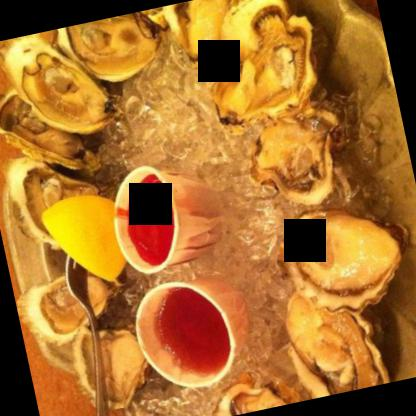lemon: (42, 184, 140, 286)
oyster: (191, 0, 342, 136), (271, 189, 415, 324), (242, 88, 374, 208), (0, 20, 120, 143), (284, 274, 385, 398), (52, 8, 168, 93), (6, 150, 106, 244), (14, 265, 126, 345)
